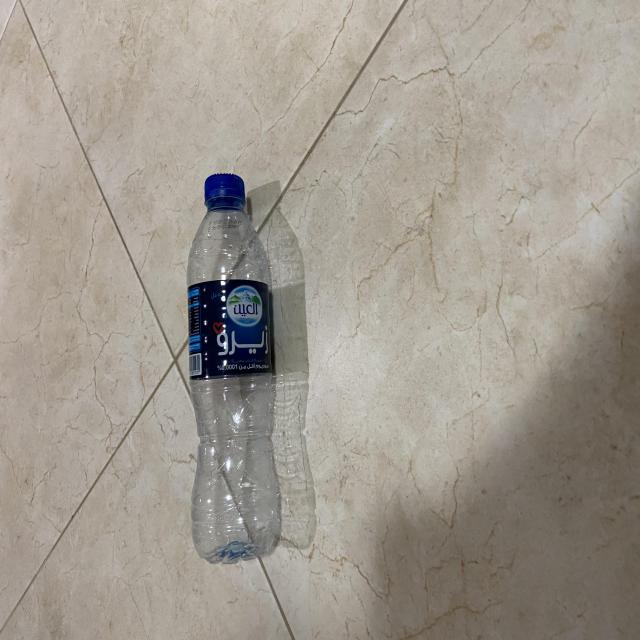bottle: (176, 153, 289, 581)
